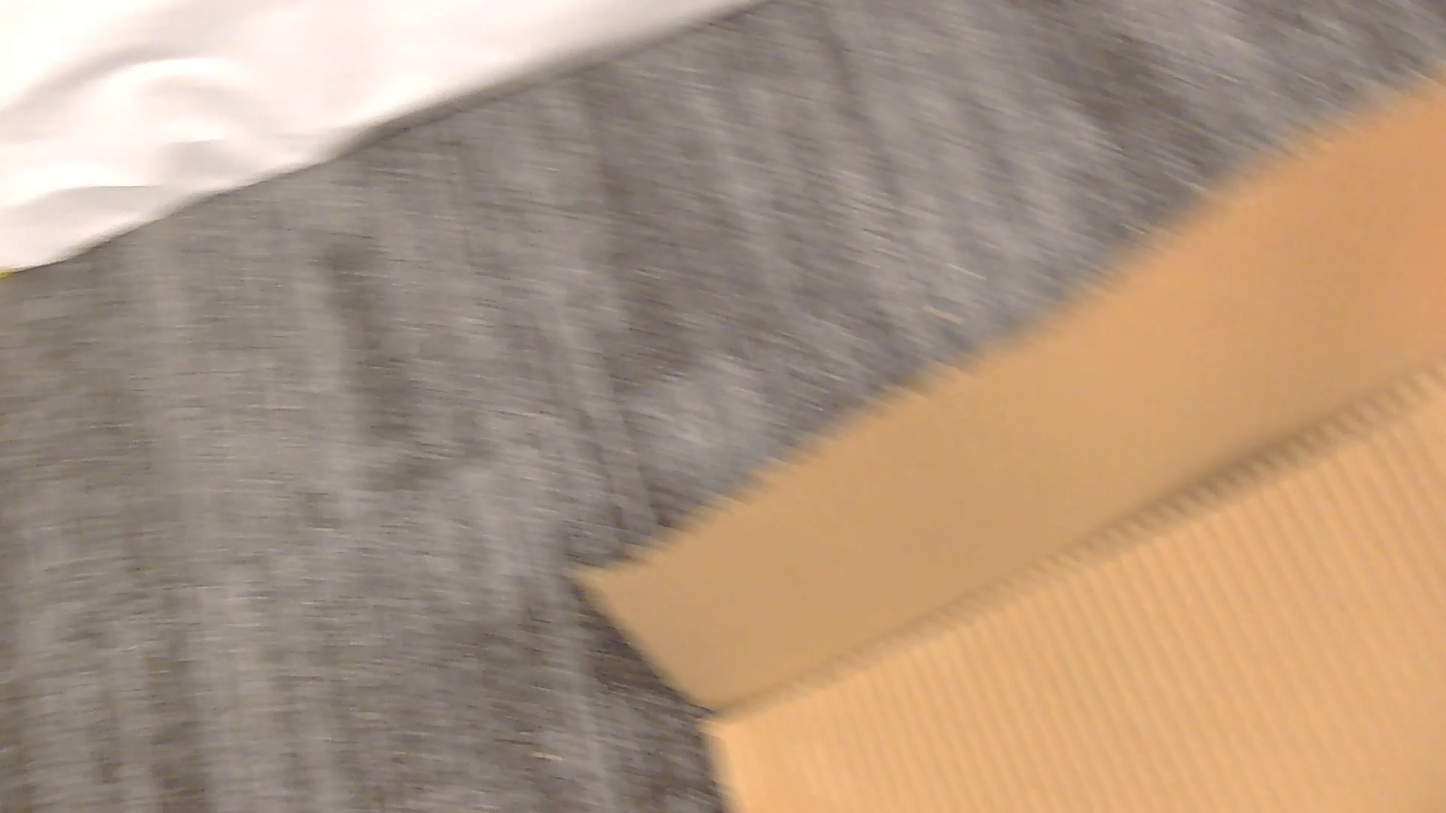Ramp: (579, 80, 1445, 812)
